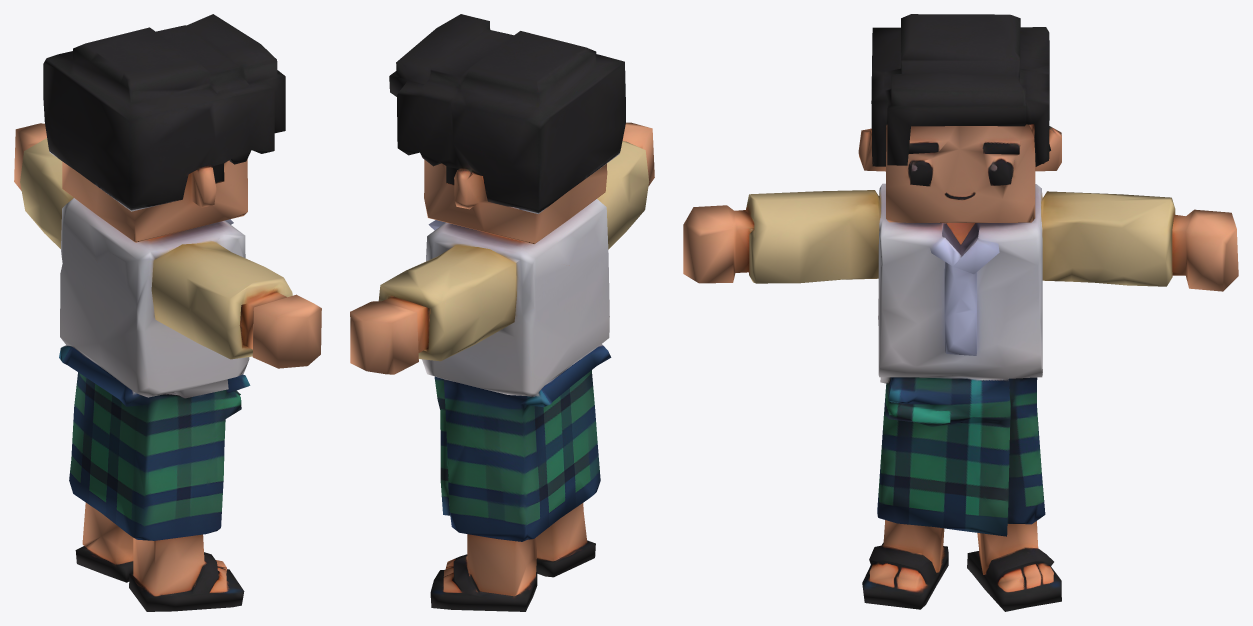
The model's file is burmese-man.glb.
The picture shows the model from 3 angles, left to right: view 1: azimuth 30°, elevation 25°; view 2: azimuth 150°, elevation 25°; view 3: azimuth 270°, elevation 25°; orthographic projection. The views are drawn at different scales.
Visible parts, largest first — view 1: tripo_node_8f0c64c4-4b5d-4e79-a08a-c24682e93d2e; view 2: tripo_node_8f0c64c4-4b5d-4e79-a08a-c24682e93d2e; view 3: tripo_node_8f0c64c4-4b5d-4e79-a08a-c24682e93d2e.
Boxes of the visible parts, box(x1,y1,x2,y2) form: tripo_node_8f0c64c4-4b5d-4e79-a08a-c24682e93d2e: box(14, 14, 321, 611); tripo_node_8f0c64c4-4b5d-4e79-a08a-c24682e93d2e: box(350, 14, 654, 611); tripo_node_8f0c64c4-4b5d-4e79-a08a-c24682e93d2e: box(683, 14, 1238, 611).
Bounding box in the file's own units: 0.3234 × 1 × 0.9201.
Materials: 1 (1 with a texture image).
